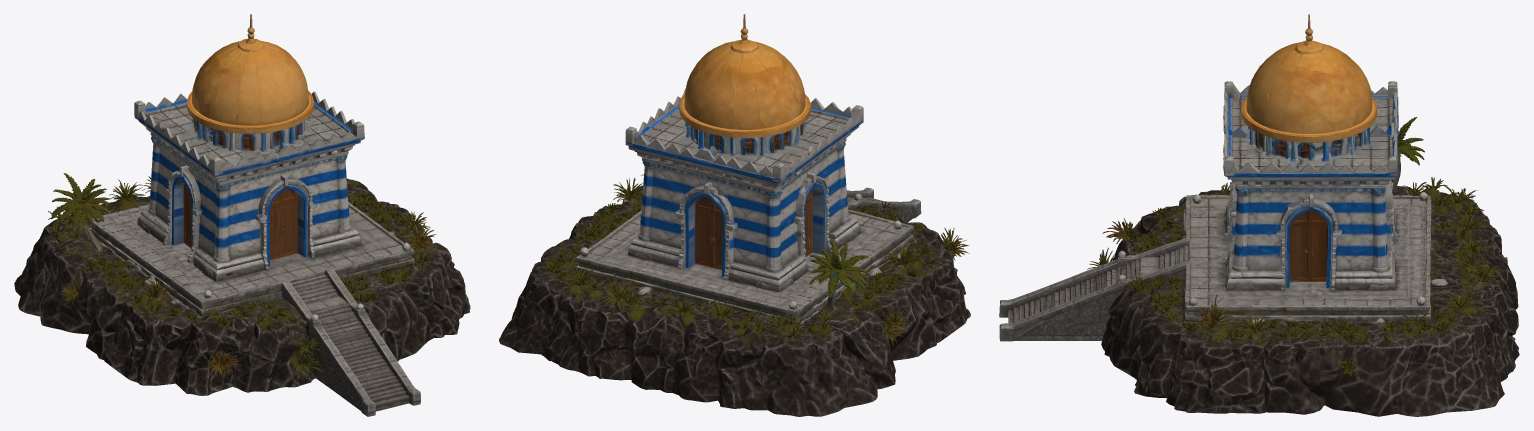
Rendered from temple.glb.
The picture shows the model from 3 angles, left to right: view 1: azimuth 30°, elevation 25°; view 2: azimuth 150°, elevation 25°; view 3: azimuth 270°, elevation 25°; orthographic projection. The views are drawn at different scales.
Visible parts, largest first — view 1: Mesh_0; view 2: Mesh_0; view 3: Mesh_0.
Part boxes in pixels (box(x1,y1,x2,y2)): Mesh_0: box(14, 14, 470, 416); Mesh_0: box(499, 14, 970, 416); Mesh_0: box(999, 14, 1519, 416).
Size of the model in its own units: 1.57 by 1.25 by 1.88.
Materials: 1 (1 with a texture image).
